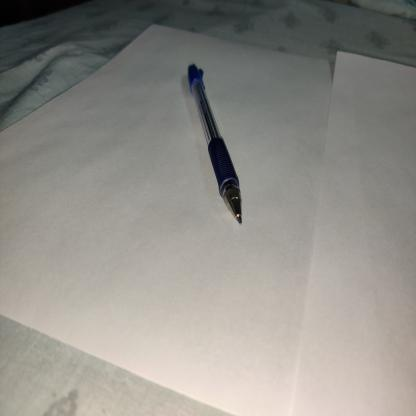Pen: (185, 61, 265, 276)
